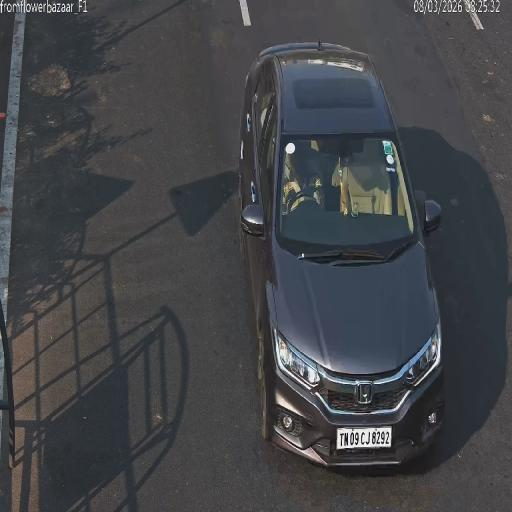person_with_seatbelt: (282, 156, 321, 208)
